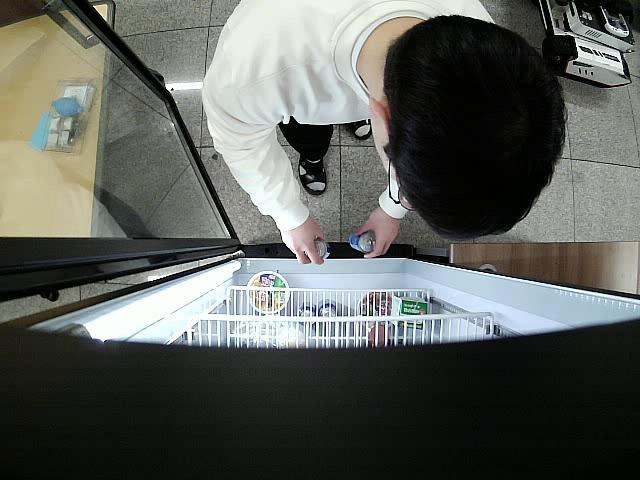00_hand: (354, 206, 400, 260), (281, 216, 326, 266)
15_letsbe: (347, 226, 376, 253), (310, 237, 328, 259)
